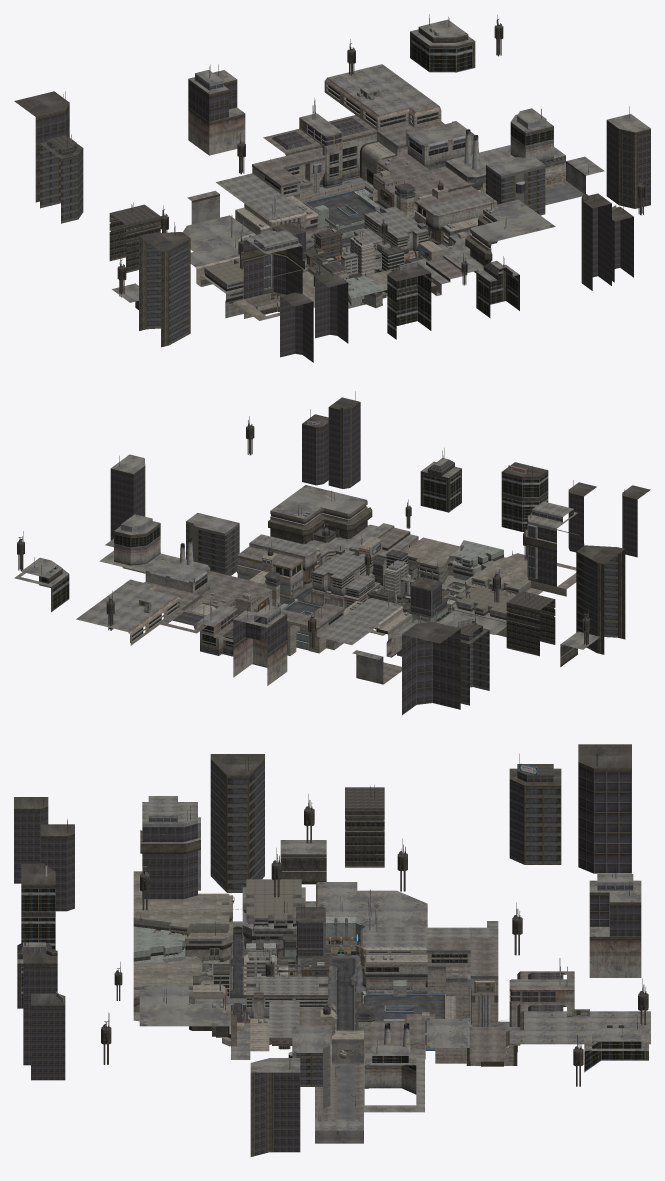
Rendered from halo map.glb.
3 views of the same model, one above another, from view 1: azimuth 30°, elevation 25°; view 2: azimuth 150°, elevation 25°; view 3: azimuth 270°, elevation 25° (orthographic). The views are drawn at different scales.
Parts seen in each view (by area): view 1: Object_3, Object_14, Object_29, Object_22, Object_27, Object_13, Object_17, Object_4, Object_8, Object_69, Object_45, Object_30 (+6 smaller); view 2: Object_3, Object_14, Object_29, Object_22, Object_4, Object_27, Object_13, Object_17, Object_8, Object_30, Object_45, Object_76 (+5 smaller); view 3: Object_3, Object_14, Object_27, Object_29, Object_4, Object_22, Object_8, Object_17, Object_30, Object_69, Object_13, Object_45 (+6 smaller).
Part boxes in pixels (left/top/right/bottom): Object_3: left=71, top=19, right=650, bottom=318; Object_14: left=35, top=82, right=650, bottom=362; Object_29: left=35, top=23, right=650, bottom=347; Object_22: left=188, top=77, right=565, bottom=279; Object_27: left=40, top=144, right=545, bottom=345; Object_13: left=109, top=36, right=553, bottom=339; Object_17: left=195, top=81, right=492, bottom=294; Object_4: left=14, top=14, right=645, bottom=306; Object_8: left=252, top=115, right=569, bottom=279; Object_69: left=306, top=184, right=583, bottom=255; Object_45: left=119, top=18, right=644, bottom=290; Object_30: left=233, top=231, right=436, bottom=320; Object_3: left=14, top=421, right=600, bottom=684; Object_14: left=110, top=404, right=637, bottom=715; Object_29: left=17, top=402, right=637, bottom=666; Object_22: left=114, top=536, right=459, bottom=685; Object_4: left=17, top=391, right=650, bottom=648; Object_27: left=186, top=524, right=617, bottom=705; Object_13: left=41, top=472, right=555, bottom=650; Object_17: left=130, top=506, right=506, bottom=656; Object_8: left=144, top=527, right=449, bottom=684; Object_30: left=311, top=537, right=576, bottom=635; Object_45: left=18, top=420, right=588, bottom=624; Object_76: left=270, top=501, right=515, bottom=613; Object_3: left=17, top=763, right=650, bottom=1143; Object_14: left=14, top=765, right=641, bottom=1155; Object_27: left=210, top=762, right=561, bottom=1086; Object_29: left=14, top=759, right=648, bottom=1156; Object_4: left=14, top=744, right=648, bottom=1103; Object_22: left=246, top=921, right=641, bottom=1094; Object_8: left=133, top=938, right=574, bottom=1119; Object_17: left=193, top=882, right=520, bottom=1065; Object_30: left=133, top=871, right=411, bottom=1030; Object_69: left=222, top=934, right=444, bottom=1119; Object_13: left=21, top=823, right=645, bottom=1072; Object_45: left=104, top=800, right=645, bottom=1121.
Bounding box in the file's own units: 577 × 140 × 509.
79 materials, 78 textured.
